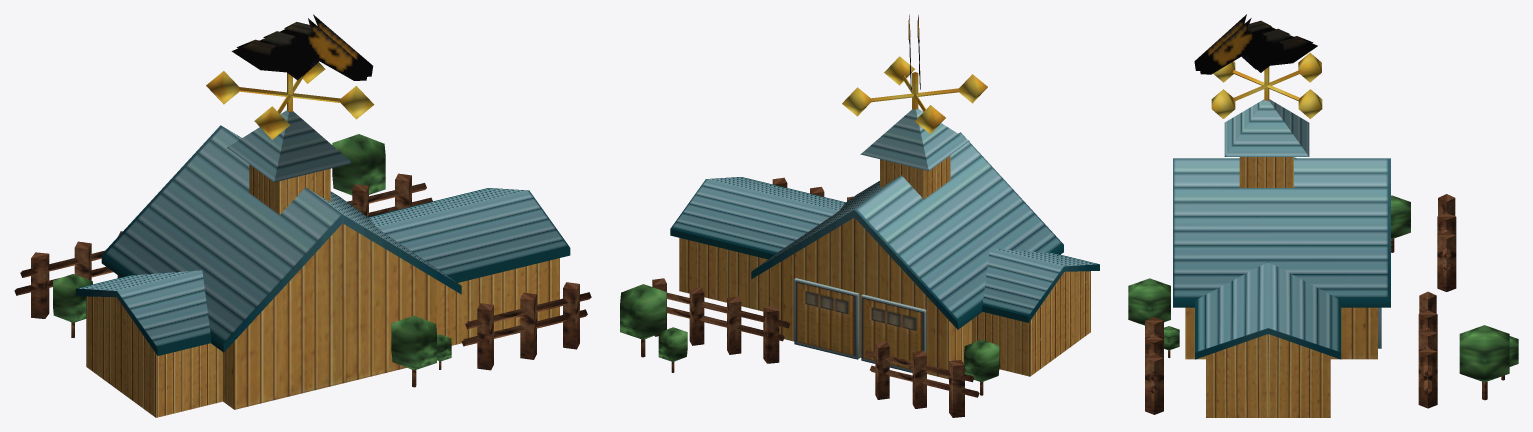
File: wp4ps2.ico.obj
3 renders of one model, left to right at view 1: azimuth 30°, elevation 25°; view 2: azimuth 150°, elevation 25°; view 3: azimuth 270°, elevation 25°, orthographic. The views are drawn at different scales.
Size of the model in its own units: 4.82 by 3.81 by 4.42.
Materials: 1 (1 with a texture image).
